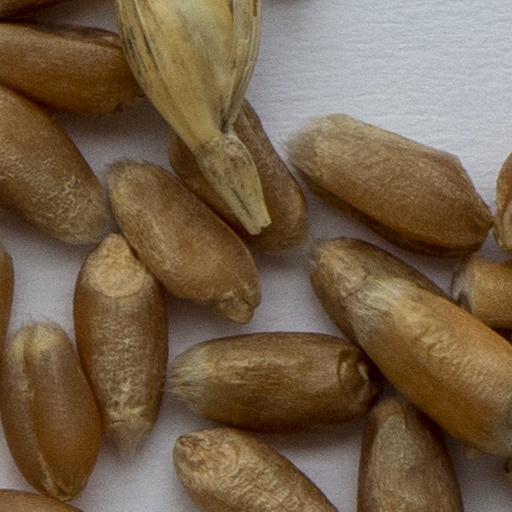Peel-poly: (115, 0, 260, 233)
Wheat-grain-damaged-poly: (450, 254, 511, 330)
